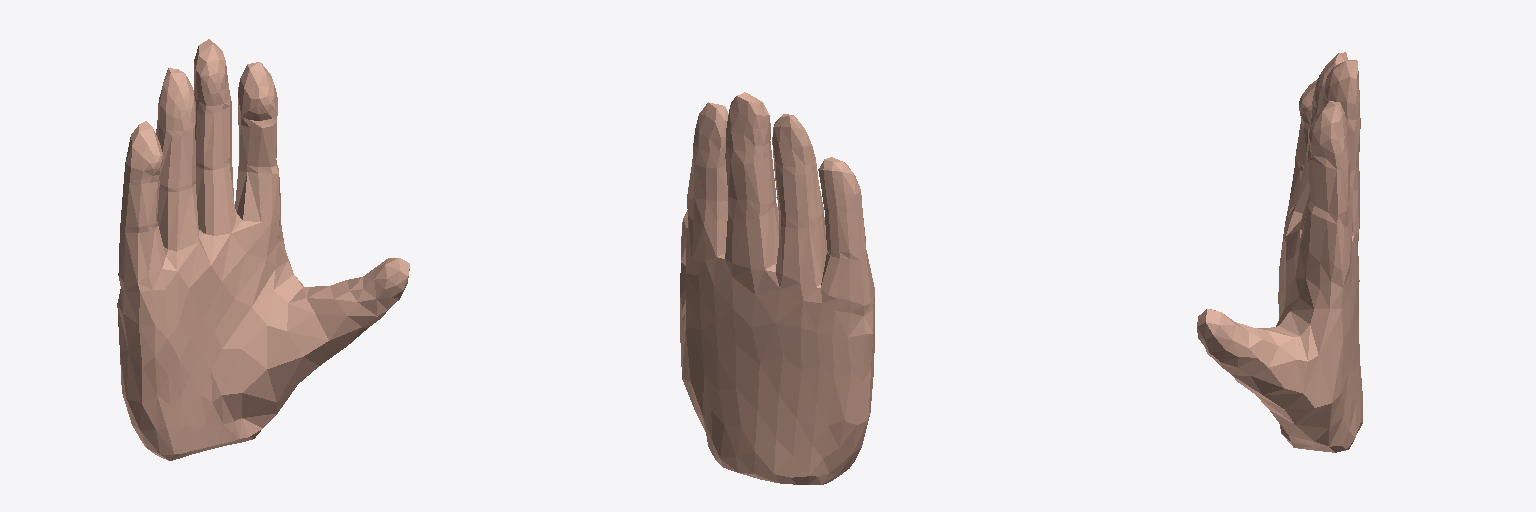
The model's file is MAO_ESTENDIDA_COM_POLEGAR.obj.
3 views of the same model, side by side, from view 1: azimuth 30°, elevation 25°; view 2: azimuth 150°, elevation 25°; view 3: azimuth 270°, elevation 25° (orthographic).
Parts seen in each view (by area): view 1: mao_dir:mao_dir; view 2: mao_dir:mao_dir; view 3: mao_dir:mao_dir.
Boxes of the visible parts, x1=… form: mao_dir:mao_dir: x1=117, y1=39, x2=409, y2=460; mao_dir:mao_dir: x1=680, y1=92, x2=874, y2=484; mao_dir:mao_dir: x1=1197, y1=52, x2=1362, y2=452.
Size of the model in its own units: 159 by 243 by 96.16.